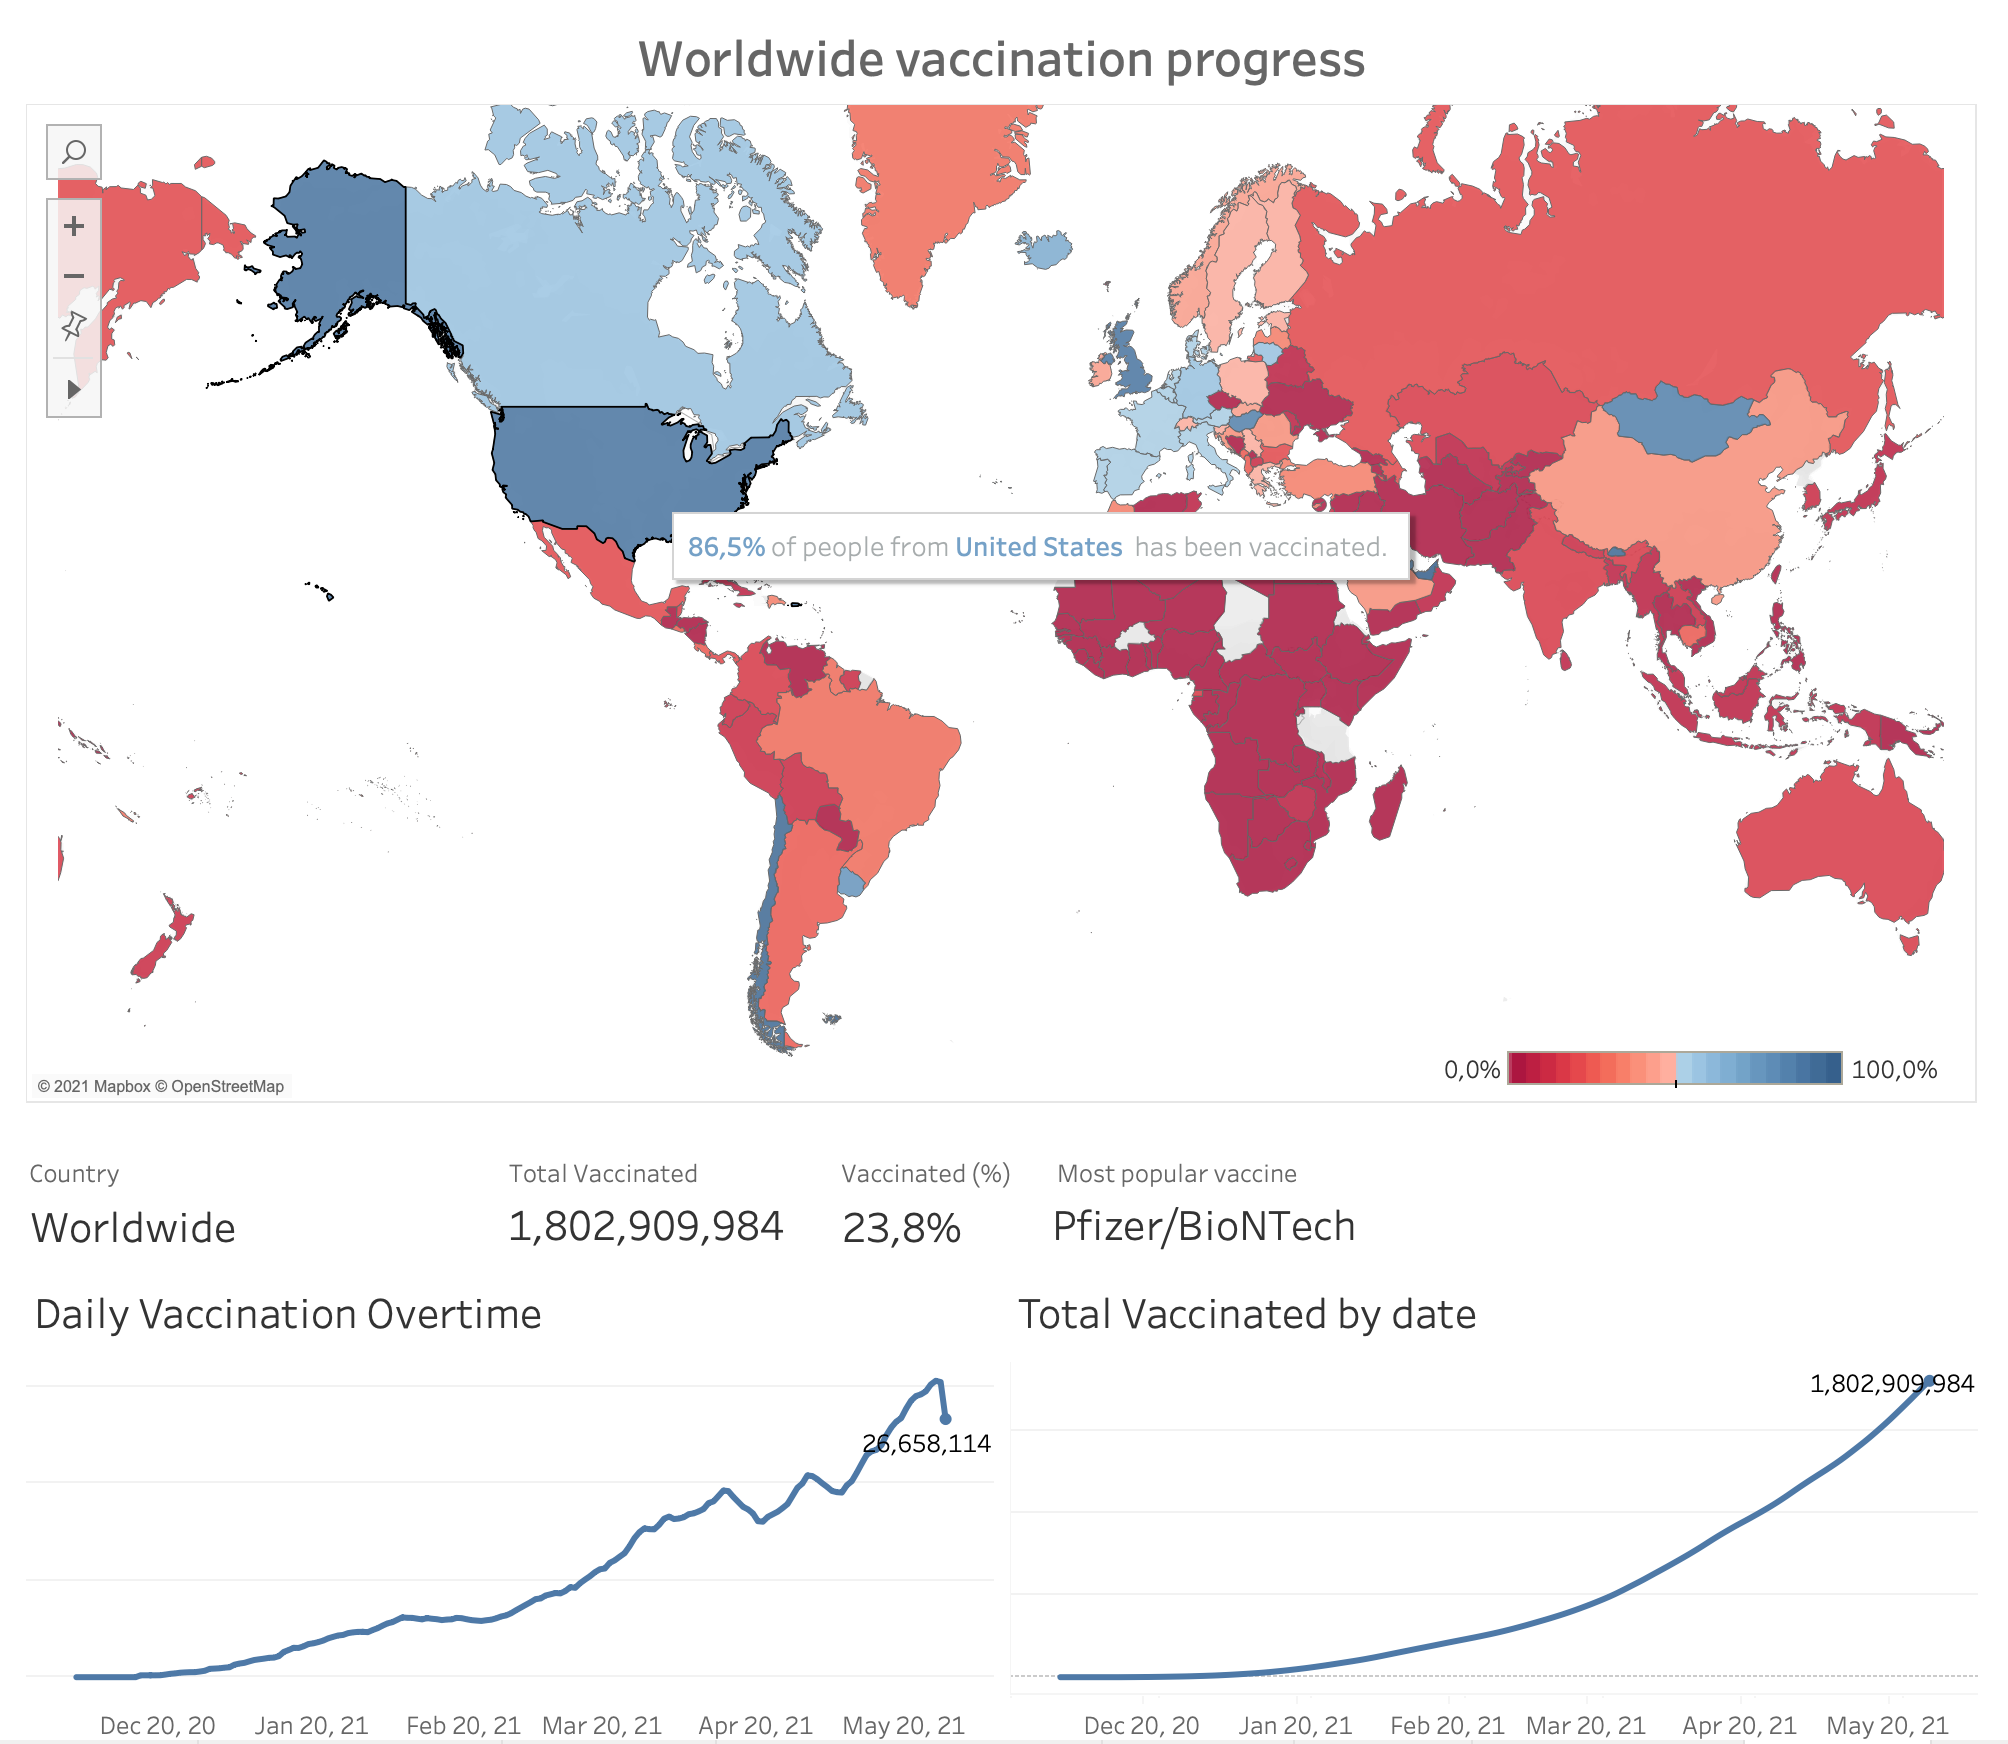

The page's visual inventory and layout, read from the dashboard file:
{"tool":"tableau","page":{"name":"Dashboard","canvas":[1000,1200],"ordinal":0},"visuals":[{"type":"worksheet","box":[0,0,1000,1200]},{"type":"worksheet","param":"vert","box":[8,8,984,1184]},{"type":"worksheet","box":[8,8,984,1184]},{"type":"worksheet","box":[8,8,984,40]},{"type":"worksheet","param":"horz","box":[8,48,984,1144]},{"type":"worksheet","box":[8,48,984,1144]},{"type":"worksheet","param":"horz","box":[8,48,984,857.7]},{"type":"worksheet","box":[8,48,984,857.7]},{"type":"worksheet","title":"Vaccinated Percentage","mark":"Multipolygon","box":[8,48,984,508.3]},{"type":"worksheet","title":"Vaccinated Percentage","mark":"Multipolygon","param":"[federated.0qmura41yw61w914r4ky407twyag].[usr:Calculation_4743908936936497156:qk","box":[717,522,256,27]},{"type":"worksheet","box":[8,556.3,984,77.4]},{"type":"worksheet","box":[525,571,126,30]},{"type":"worksheet","box":[11,574,100,25]},{"type":"worksheet","box":[251,574,100,25]},{"type":"worksheet","box":[417,574,100,25]},{"type":"worksheet","title":"Total Vaccinated","mark":"Automatic","box":[249,599,170,39]},{"type":"worksheet","title":"Most Popular Vaccine","mark":"Automatic","box":[521,599,393,36]},{"type":"worksheet","title":"Country Name","mark":"Automatic","box":[10,600,328,41]},{"type":"worksheet","title":"(%) Vaccinated over population","mark":"Automatic","box":[416,600,96,33]},{"type":"worksheet","param":"vert","box":[8,633.7,984,272]},{"type":"worksheet","param":"horz","box":[8,633.7,984,272]},{"type":"worksheet","title":"Daily Vaccination Overtime","mark":"Line","rows":["daily_vaccinations"],"cols":["date"],"box":[8,633.7,492,272]},{"type":"worksheet","title":"Total Vaccinated by date","mark":"Automatic","rows":["daily_vaccinations"],"cols":["date"],"box":[500,633.7,492,272]},{"type":"worksheet","title":"Vaccine Used","mark":"Automatic","rows":["vaccine"],"cols":["total_vaccinations (country_vaccinations_by_manufacturer.csv"],"box":[8,905.7,984,286.3]},{"type":"worksheet","title":"Vaccine Used","mark":"Automatic","rows":["vaccine"],"cols":["total_vaccinations (country_vaccinations_by_manufacturer.csv"],"param":"[federated.0qmura41yw61w914r4ky407twyag].[none:vaccine:nk]","box":[176,925,817,26]}]}

Visuals, with their boxes on the page's 1000x1200 design canvas (x1, y1, x2, y2). These are canvas units, not pixel positions in the 2008x1744 screenshot, which may show the page scaled, cropped or inside an application window:
worksheet: {"x1": 0, "y1": 0, "x2": 1000, "y2": 1200}
worksheet: {"x1": 8, "y1": 8, "x2": 992, "y2": 1192}
worksheet: {"x1": 8, "y1": 8, "x2": 992, "y2": 1192}
worksheet: {"x1": 8, "y1": 8, "x2": 992, "y2": 48}
worksheet: {"x1": 8, "y1": 48, "x2": 992, "y2": 1192}
worksheet: {"x1": 8, "y1": 48, "x2": 992, "y2": 1192}
worksheet: {"x1": 8, "y1": 48, "x2": 992, "y2": 906}
worksheet: {"x1": 8, "y1": 48, "x2": 992, "y2": 906}
"Vaccinated Percentage" worksheet (Multipolygon marks): {"x1": 8, "y1": 48, "x2": 992, "y2": 556}
"Vaccinated Percentage" worksheet (Multipolygon marks): {"x1": 717, "y1": 522, "x2": 973, "y2": 549}
worksheet: {"x1": 8, "y1": 556, "x2": 992, "y2": 634}
worksheet: {"x1": 525, "y1": 571, "x2": 651, "y2": 601}
worksheet: {"x1": 11, "y1": 574, "x2": 111, "y2": 599}
worksheet: {"x1": 251, "y1": 574, "x2": 351, "y2": 599}
worksheet: {"x1": 417, "y1": 574, "x2": 517, "y2": 599}
"Total Vaccinated" worksheet: {"x1": 249, "y1": 599, "x2": 419, "y2": 638}
"Most Popular Vaccine" worksheet: {"x1": 521, "y1": 599, "x2": 914, "y2": 635}
"Country Name" worksheet: {"x1": 10, "y1": 600, "x2": 338, "y2": 641}
"(%) Vaccinated over population" worksheet: {"x1": 416, "y1": 600, "x2": 512, "y2": 633}
worksheet: {"x1": 8, "y1": 634, "x2": 992, "y2": 906}
worksheet: {"x1": 8, "y1": 634, "x2": 992, "y2": 906}
"Daily Vaccination Overtime" worksheet (Line marks): {"x1": 8, "y1": 634, "x2": 500, "y2": 906}
"Total Vaccinated by date" worksheet: {"x1": 500, "y1": 634, "x2": 992, "y2": 906}
"Vaccine Used" worksheet: {"x1": 8, "y1": 906, "x2": 992, "y2": 1192}
"Vaccine Used" worksheet: {"x1": 176, "y1": 925, "x2": 993, "y2": 951}
